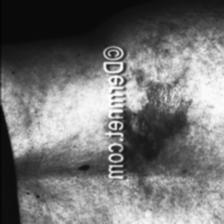Unclassified: (122, 80, 178, 160)
